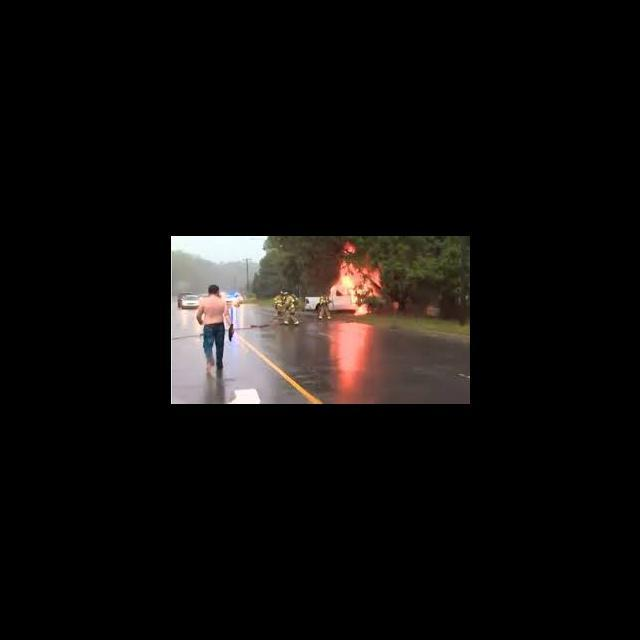Fire: (330, 236, 400, 320)
